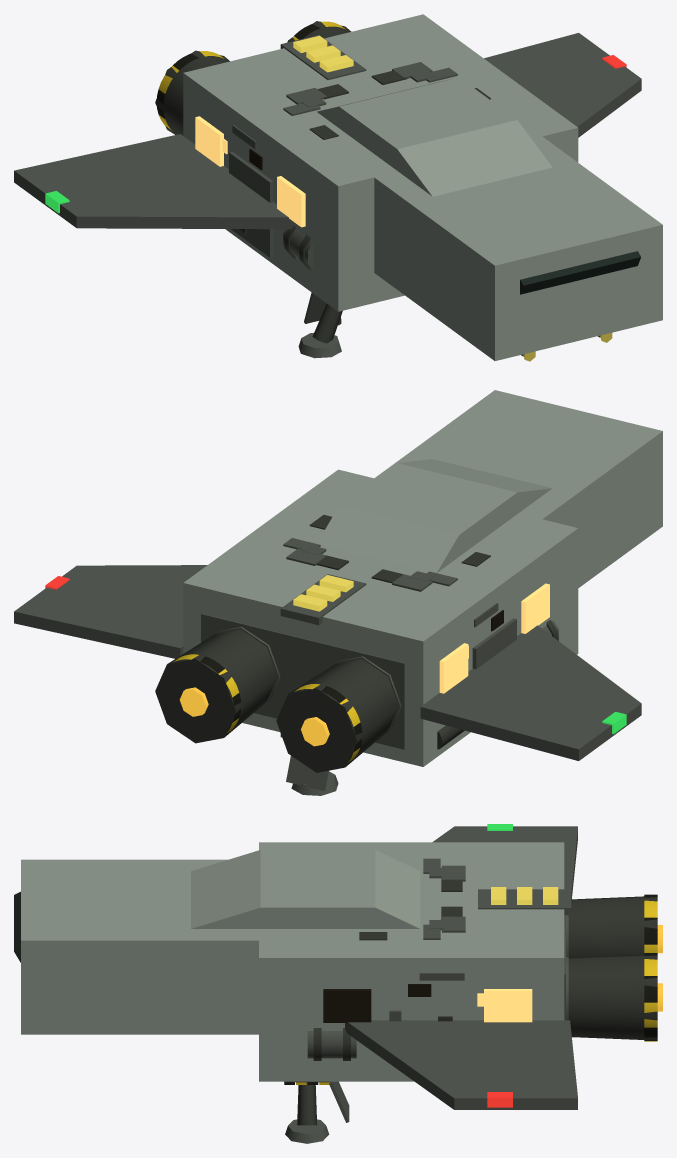
File: shuttle-m.glb
3 views of the same model, one above another, from view 1: azimuth 30°, elevation 25°; view 2: azimuth 150°, elevation 25°; view 3: azimuth 270°, elevation 25° (orthographic).
Visible parts, largest first — view 1: hullNose, hullMain, wingLeft, canopyFairing, wingRight, cockpitGlass, boardingDoor, engineHousing, cabinWindow1L, cabinWindow0L, iffPlinthDorsal, gearFoot (+2 smaller); view 2: hullMain, hullNose, engineHousing (×2), wingLeft, canopyFairing, wingRight, engineBayExtension, engineGlow (×2), iffPlinthDorsal, boardingDoor, cabinWindow0L, cabinWindow1L (+1 smaller); view 3: hullMain, hullNose, canopyFairing, wingRight, engineHousing (×2), wingLeft, cabinWindow0R, cabinWindow1R, iffPlinthDorsal, shuttleShipPropellantTankR, gearStrut, gearFoot.
Part boxes in pixels (x1=…): hullNose: x1=365, y1=129, x2=662, y2=360; hullMain: x1=183, y1=14, x2=578, y2=311; wingLeft: x1=14, y1=134, x2=294, y2=229; canopyFairing: x1=317, y1=77, x2=552, y2=196; wingRight: x1=484, y1=33, x2=641, y2=137; cockpitGlass: x1=520, y1=251, x2=640, y2=294; boardingDoor: x1=229, y1=151, x2=273, y2=257; engineHousing: x1=155, y1=50, x2=229, y2=135; cabinWindow1L: x1=277, y1=176, x2=305, y2=227; cabinWindow0L: x1=195, y1=116, x2=223, y2=166; iffPlinthDorsal: x1=280, y1=35, x2=366, y2=79; gearFoot: x1=298, y1=333, x2=341, y2=358; hullMain: x1=183, y1=469, x2=578, y2=766; hullNose: x1=364, y1=390, x2=662, y2=587; engineHousing (×2): x1=155, y1=629, x2=398, y2=772; wingLeft: x1=420, y1=625, x2=641, y2=760; canopyFairing: x1=316, y1=459, x2=552, y2=572; wingRight: x1=14, y1=565, x2=207, y2=658; engineBayExtension: x1=201, y1=613, x2=404, y2=749; engineGlow (×2): x1=179, y1=687, x2=329, y2=746; iffPlinthDorsal: x1=280, y1=574, x2=366, y2=625; boardingDoor: x1=472, y1=618, x2=516, y2=669; cabinWindow0L: x1=439, y1=643, x2=468, y2=693; cabinWindow1L: x1=521, y1=583, x2=549, y2=633; hullMain: x1=259, y1=842, x2=564, y2=1081; hullNose: x1=21, y1=859, x2=258, y2=1034; canopyFairing: x1=191, y1=849, x2=420, y2=928; wingRight: x1=345, y1=1020, x2=577, y2=1109; engineHousing (×2): x1=568, y1=896, x2=657, y2=1040; wingLeft: x1=432, y1=826, x2=577, y2=899; cabinWindow0R: x1=484, y1=989, x2=532, y2=1022; cabinWindow1R: x1=323, y1=989, x2=371, y2=1022; iffPlinthDorsal: x1=478, y1=889, x2=571, y2=915; shuttleShipPropellantTankR: x1=307, y1=1031, x2=356, y2=1058; gearStrut: x1=297, y1=1082, x2=317, y2=1125; gearFoot: x1=285, y1=1119, x2=329, y2=1143.
Bounding box in the file's own units: 4.02 × 1.38 × 4.04.
